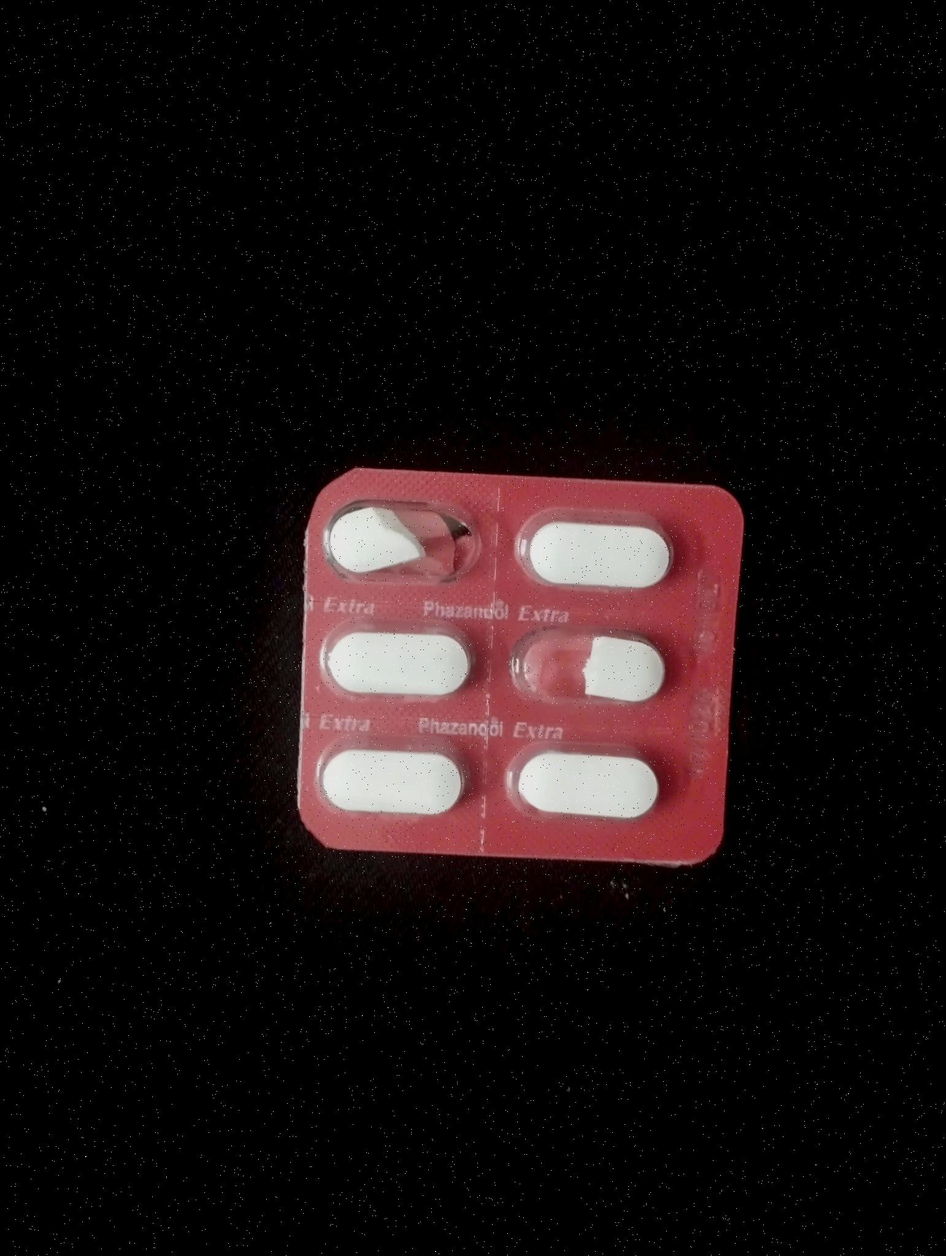Full: (515, 502, 683, 605), (309, 622, 477, 716), (310, 739, 468, 826), (500, 741, 661, 825)
Partial: (513, 620, 685, 707), (329, 492, 477, 586)
